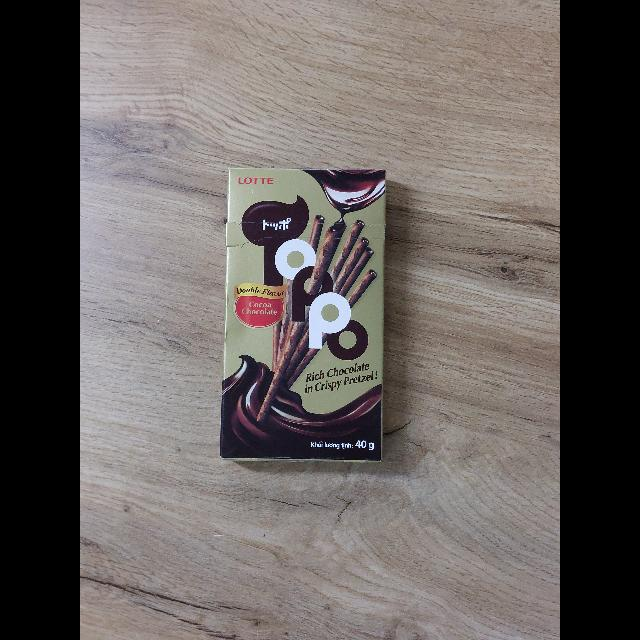banh_toppo_socola: (220, 166, 387, 463)
